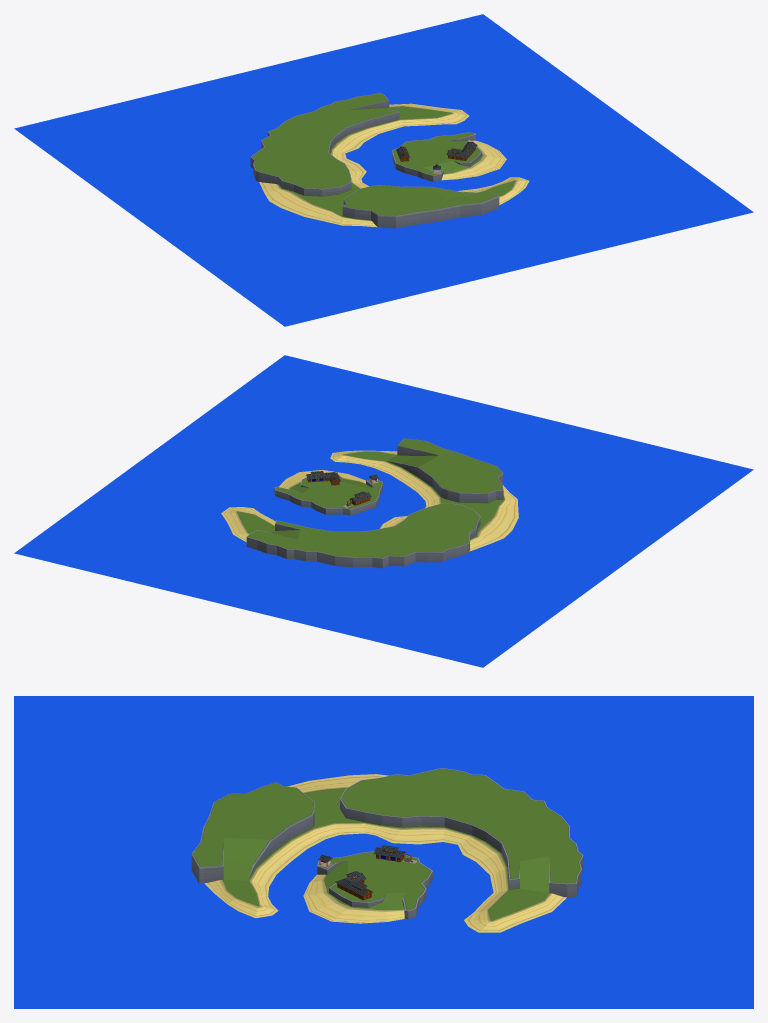
Rendered from moon_island.fbx.
The picture shows the model from 3 angles, top to bottom: view 1: azimuth 30°, elevation 25°; view 2: azimuth 150°, elevation 25°; view 3: azimuth 270°, elevation 25°; orthographic projection. The views are drawn at different scales.
Parts seen in each view (by area): view 1: Plane.004, Plane.003, Plane.006, Plane.002, Plane.005; view 2: Plane.004, Plane.003, Plane.006, Plane.002, Plane.005; view 3: Plane.004, Plane.003, Plane.002, Plane.006, Plane.005.
Part boxes in pixels (left/top/right/bottom): Plane.004: left=14, top=14, right=753, bottom=326; Plane.003: left=252, top=93, right=529, bottom=227; Plane.006: left=250, top=92, right=499, bottom=228; Plane.002: left=393, top=132, right=506, bottom=180; Plane.005: left=392, top=132, right=481, bottom=181; Plane.004: left=14, top=355, right=753, bottom=667; Plane.003: left=221, top=439, right=518, bottom=557; Plane.006: left=246, top=438, right=503, bottom=568; Plane.002: left=276, top=470, right=381, bottom=508; Plane.005: left=274, top=475, right=382, bottom=515; Plane.004: left=14, top=696, right=753, bottom=1008; Plane.003: left=194, top=769, right=581, bottom=932; Plane.002: left=303, top=852, right=430, bottom=923; Plane.006: left=191, top=768, right=583, bottom=897; Plane.005: left=317, top=851, right=432, bottom=919.
Bounding box in the file's own units: 400 × 11.7 × 400.
24 materials, 24 textured.
